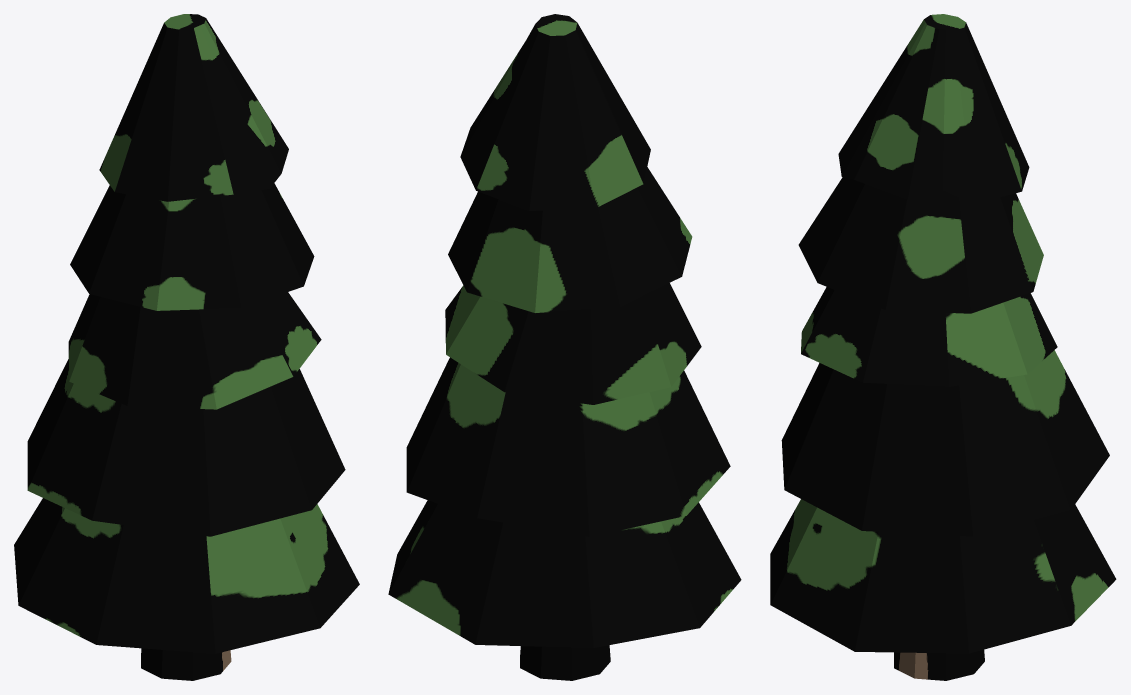
Rendered from evergreen tree.obj.
3 renders of one model, left to right at view 1: azimuth 30°, elevation 25°; view 2: azimuth 150°, elevation 25°; view 3: azimuth 270°, elevation 25°, orthographic.
Parts seen in each view (by area): view 1: Cylinder.001, Cylinder.002, Cylinder.004, Cylinder.005, Cylinder.003, Cylinder; view 2: Cylinder.002, Cylinder.001, Cylinder.005, Cylinder.004, Cylinder.003, Cylinder; view 3: Cylinder.002, Cylinder.001, Cylinder.004, Cylinder.005, Cylinder.003, Cylinder.
Part boxes in pixels (box(x1,y1,x2,y2)): Cylinder.001: box(14, 498, 359, 653); Cylinder.002: box(27, 359, 345, 536); Cylinder.004: box(70, 183, 314, 310); Cylinder.005: box(99, 14, 288, 201); Cylinder.003: box(68, 292, 321, 409); Cylinder: box(141, 648, 231, 680); Cylinder.002: box(406, 357, 730, 536); Cylinder.001: box(388, 500, 741, 647); Cylinder.005: box(460, 14, 650, 210); Cylinder.004: box(448, 167, 692, 312); Cylinder.003: box(445, 283, 701, 404); Cylinder: box(520, 645, 610, 680); Cylinder.002: box(781, 350, 1109, 536); Cylinder.001: box(770, 499, 1116, 653); Cylinder.004: box(798, 177, 1043, 313); Cylinder.005: box(838, 14, 1029, 204); Cylinder.003: box(801, 287, 1057, 386); Cylinder: box(894, 649, 984, 680).
Bounding box in the file's own units: 3.93 × 7.94 × 3.87.
